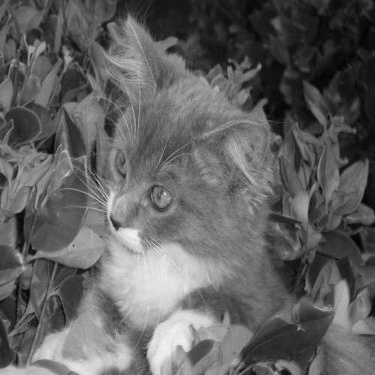cat: (29, 16, 292, 373)
